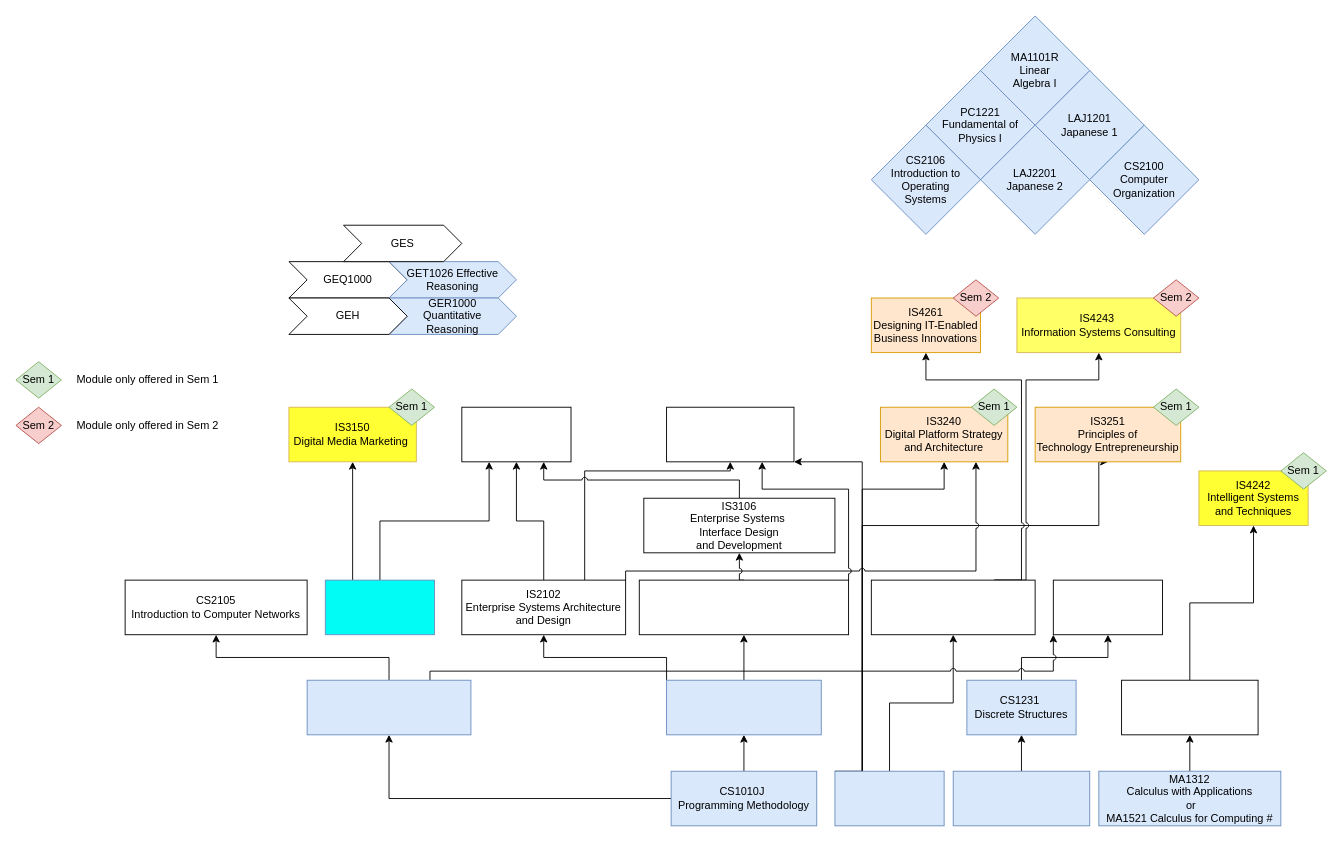
The diagram is 1342 pixels wide and 842 high, and some of its shapes have lost their labels. The shapes that lost their labels are listed below. From the top down, each one's centre as x and y in pixels, then its label:
At [516,434]: "IS4103 Information Systems Capstone Project".
At [730,434]: "IS4100 IT Project Management".
At [379,607]: "IS2101 Business and Technical Communication*".
At [743,607]: "IS2103 Enterprise Systems Server-side Design and Development".
At [952,607]: "IS3103 Information Systems Leadership and Communication".
At [1107,607]: "CS2102 Database Systems".
At [388,707]: "CS2040 Data Structures and Algorithms".
At [743,707]: "CS2030 Programming Methodology II".
At [1189,707]: "ST2334 Probability and Statistics&".
At [889,798]: "IS1103 Ethics in Computing".
At [1021,798]: "MA1301/X Introductory Mathematics+".
